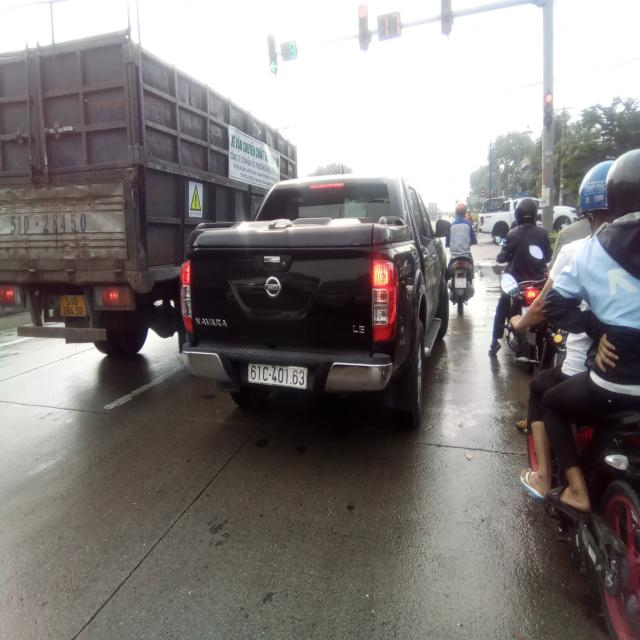bien_trang: (246, 357, 312, 395)
bien_vang: (56, 290, 90, 320)
